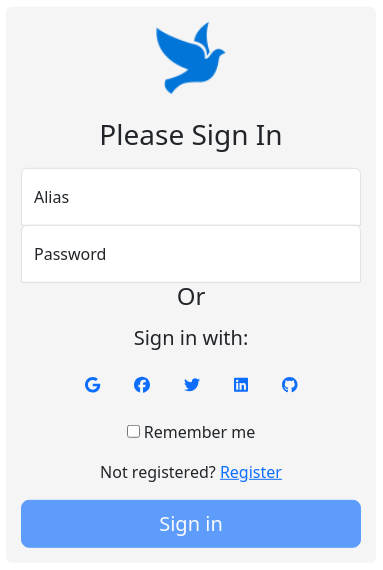
Login View › disables the sign in button if text is removed from alias or password fields
This screenshot has width=383, height=570.
Type "q" into the field labelled "Alias".
click(191, 196); type("q")  # box x1=21 y1=167 x2=361 y2=225
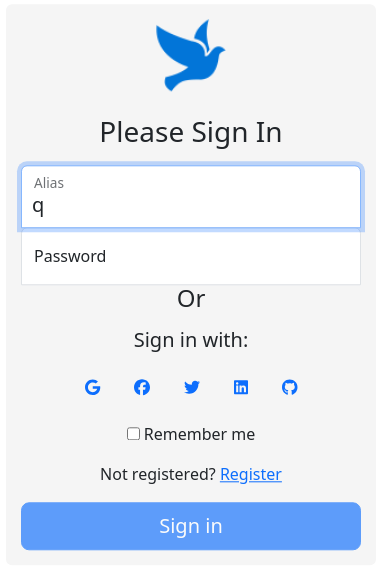
Type "t" into the password field labelled "Password".
click(191, 256); type("t")  # box x1=21 y1=227 x2=361 y2=285
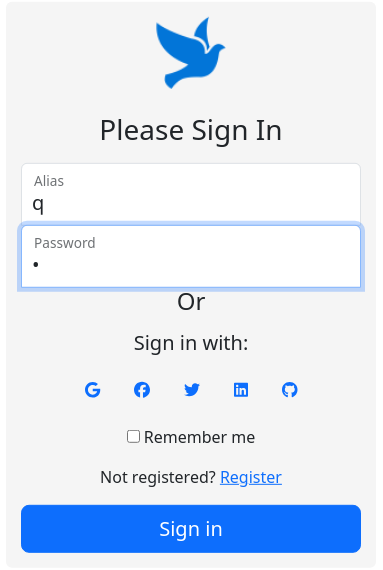
Result: the button "Sign in" is enabled at x1=21 y1=505 x2=361 y2=553
Clear the field labelled "Alias" at {"x": 191, "y": 194}, box x1=21 y1=162 x2=361 y2=225
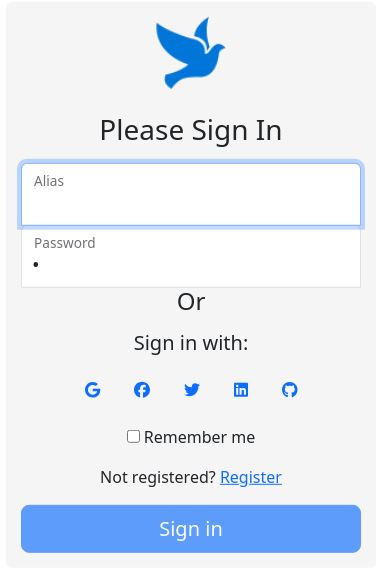
Result: the button "Sign in" is disabled at x1=21 y1=505 x2=361 y2=553
Type "w" into the field labelled "Alias".
click(191, 194); type("w")  # box x1=21 y1=162 x2=361 y2=225
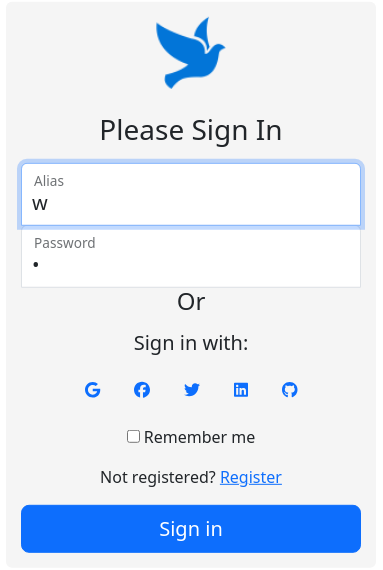
Result: the button "Sign in" is enabled at x1=21 y1=505 x2=361 y2=553
Clear the password field labelled "Password" at {"x": 191, "y": 256}, box x1=21 y1=224 x2=361 y2=287
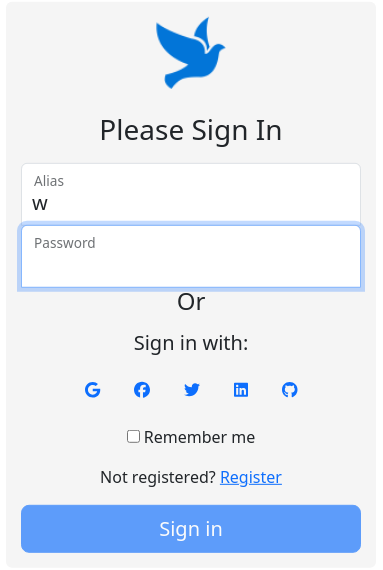
Result: the button "Sign in" is disabled at x1=21 y1=505 x2=361 y2=553
Type "s" into the password field labelled "Password".
click(191, 256); type("s")  # box x1=21 y1=224 x2=361 y2=287
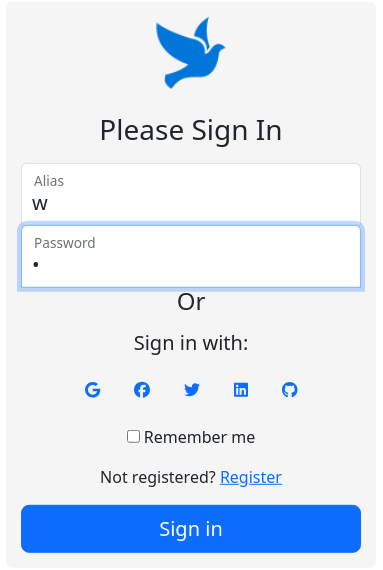
Result: the button "Sign in" is enabled at x1=21 y1=505 x2=361 y2=553
